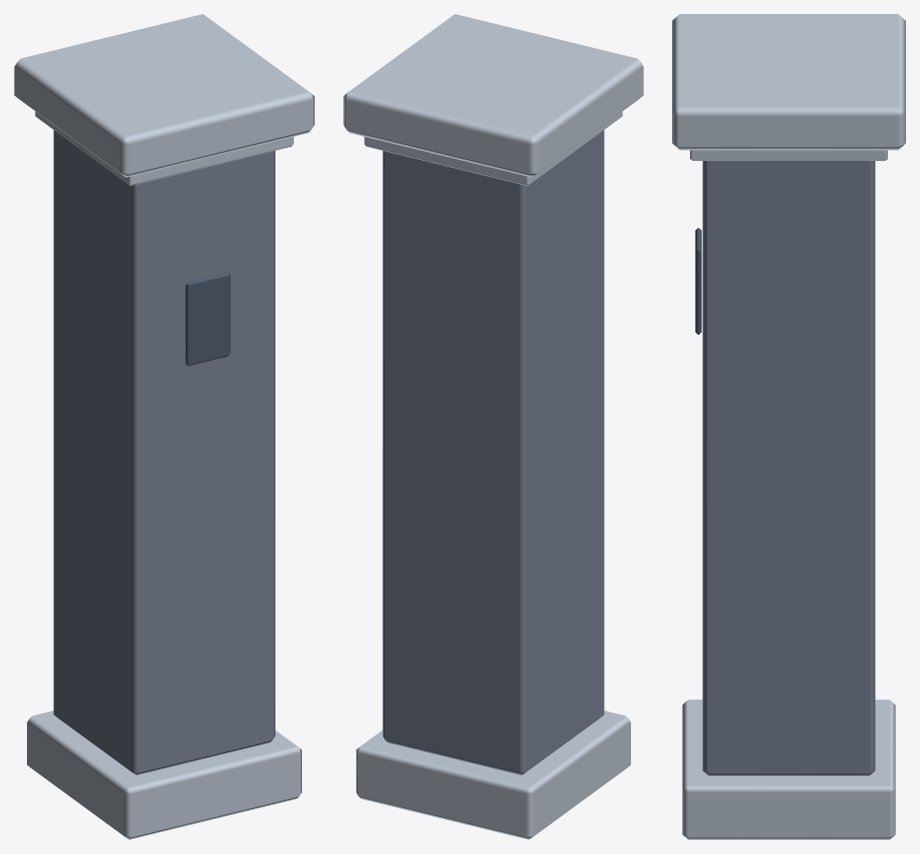
The model's file is garden-gate-post-lite.glb.
The picture shows the model from 3 angles, left to right: view 1: azimuth 30°, elevation 25°; view 2: azimuth 150°, elevation 25°; view 3: azimuth 270°, elevation 25°; orthographic projection. The views are drawn at different scales.
Parts seen in each view (by area): view 1: garden-gate-post; view 2: garden-gate-post; view 3: garden-gate-post.
Part boxes in pixels (left/top/right/bottom): garden-gate-post: left=14, top=14, right=314, bottom=839; garden-gate-post: left=343, top=14, right=643, bottom=839; garden-gate-post: left=672, top=14, right=905, bottom=839.
Bounding box in the file's own units: 0.46 × 1.6 × 0.46.
